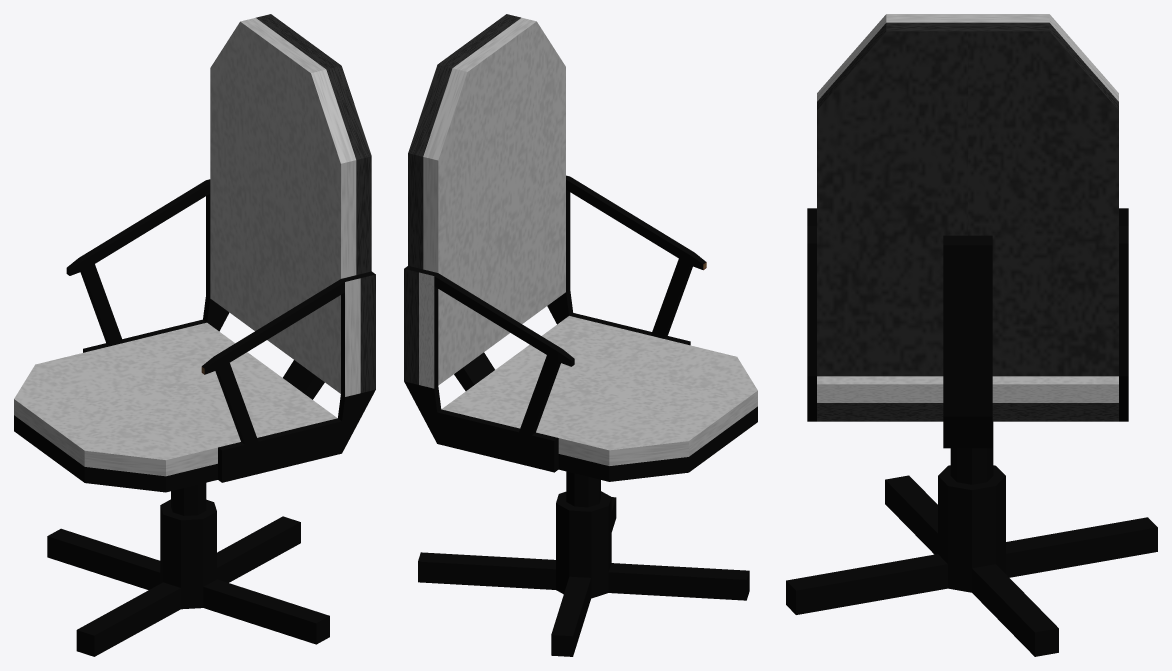
The model's file is DeskChair.fbx.
The picture shows the model from 3 angles, left to right: view 1: azimuth 30°, elevation 25°; view 2: azimuth 150°, elevation 25°; view 3: azimuth 270°, elevation 25°; orthographic projection. The views are drawn at different scales.
Visible parts, largest first — view 1: DeskChair; view 2: DeskChair; view 3: DeskChair.
Boxes of the visible parts, left/top/right/bottom form: DeskChair: left=14, top=14, right=375, bottom=656; DeskChair: left=404, top=14, right=757, bottom=656; DeskChair: left=786, top=14, right=1157, bottom=656.
Size of the model in its own units: 272 by 491 by 270.
